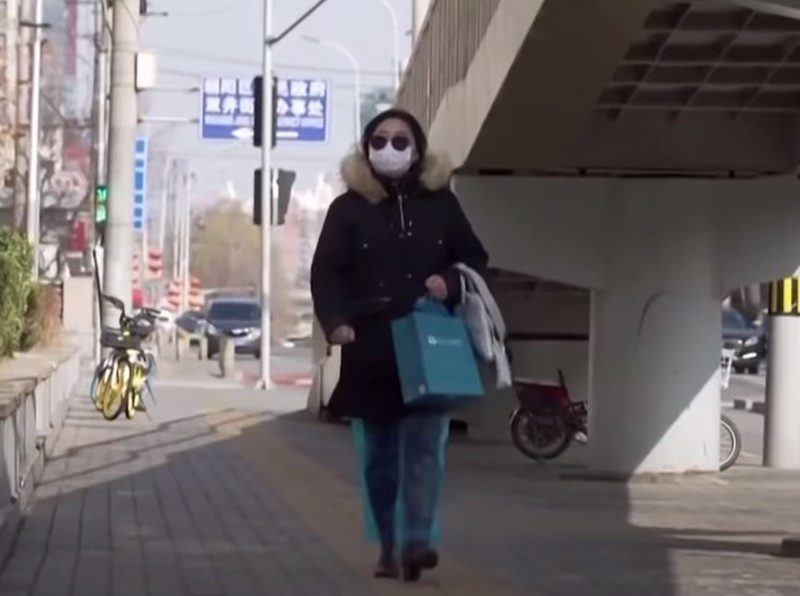face_with_mask: (363, 110, 427, 181)
